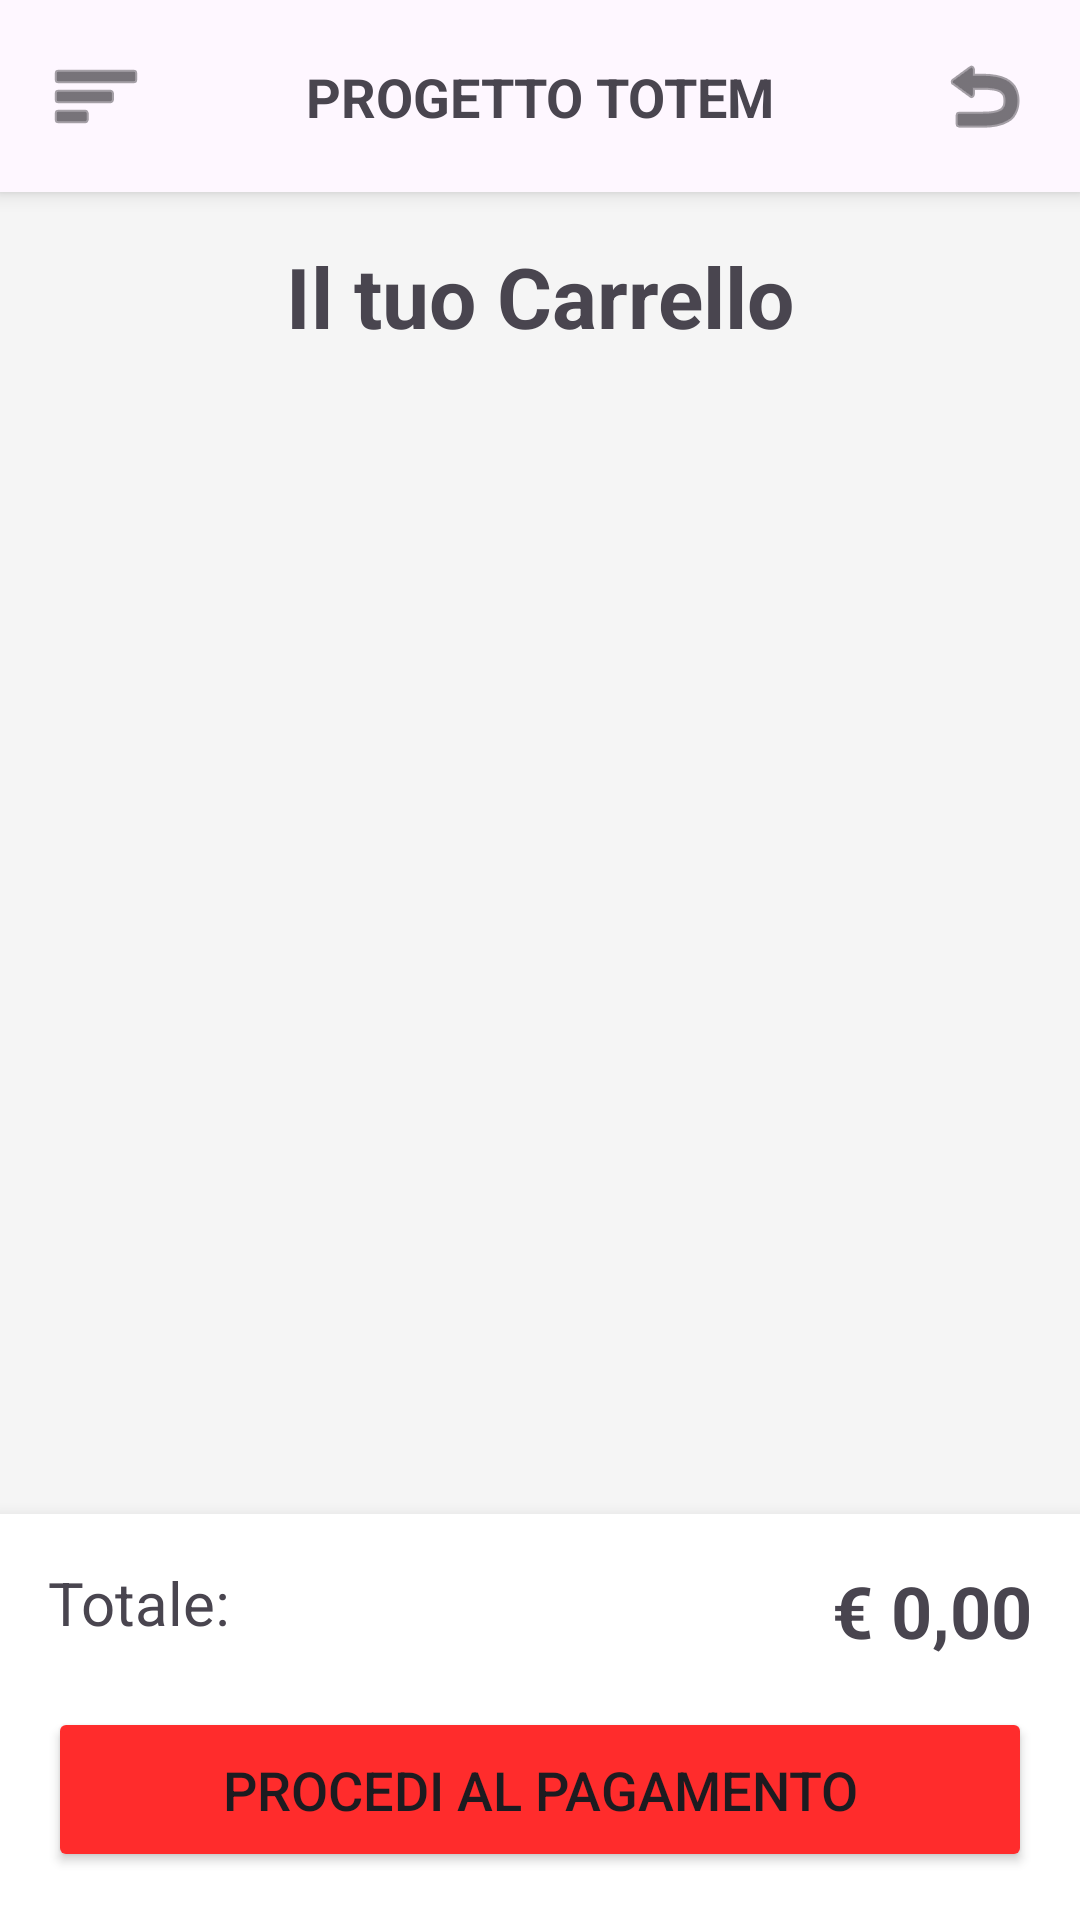

Locate icon controls on the screen. Image size 1080 x 1920, boxes as (left=x1, top=y1, right=x2, bottom=y2).
Indietro: (left=951, top=65, right=1020, bottom=128)
Menu: (left=55, top=70, right=137, bottom=123)
